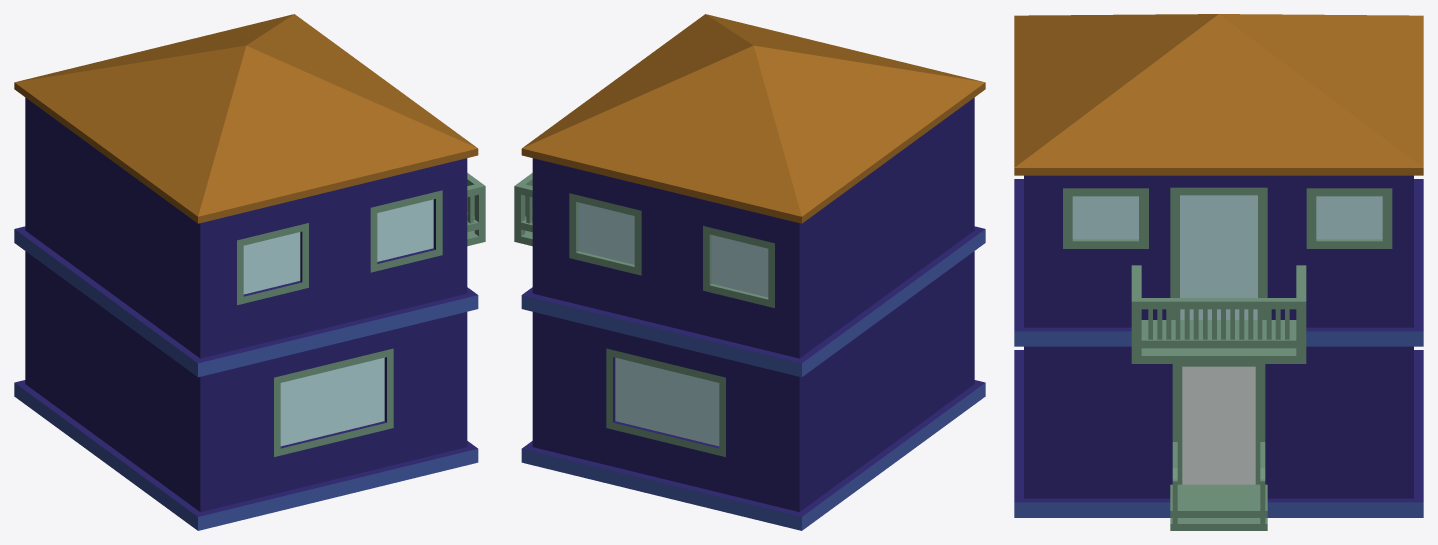
Rendered from casinha (1).fbx.
3 renders of one model, left to right at view 1: azimuth 30°, elevation 25°; view 2: azimuth 150°, elevation 25°; view 3: azimuth 270°, elevation 25°, orthographic. The views are drawn at different scales.
Parts seen in each view (by area): view 1: building_003; view 2: building_003; view 3: building_003.
Part boxes in pixels (bbox=[...]): building_003: bbox=[14, 14, 485, 530]; building_003: bbox=[514, 14, 985, 530]; building_003: bbox=[1014, 14, 1423, 530].
Bounding box in the file's own units: 510 × 550 × 477.
